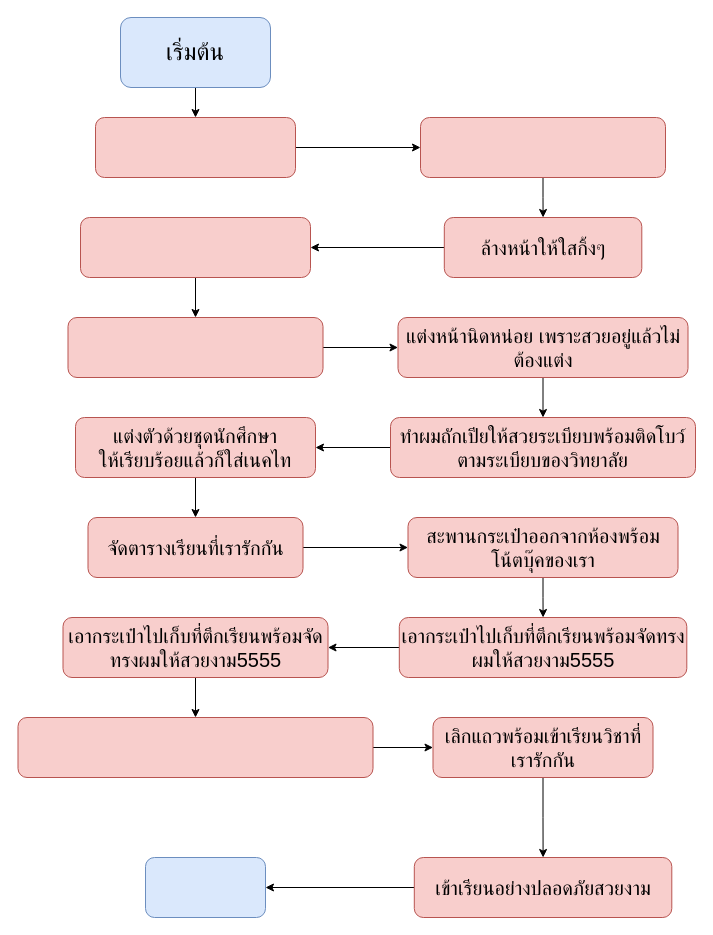
Image size: 713x935. Some labels were removed from this diagram. Each missing label, with the centre of its shape:
"END" goes at pixel 205 887.
"ตรวจระเบียบตั้งแต่หัวจรดเท้า แต่ไม่เคย โดนทำโทษเพราะเป็นเด็กดีค่ะ" goes at pixel 195 747.
"ตื่นนอนกับเช้าที่สดใสของวัยรุ่นพังงา" goes at pixel 195 147.
"รีดเสื้อ และกระโปรงนักศึกษา" goes at pixel 195 347.
"อาบน้ำแบบเจ้าหญิงให้ตัวหอมชื่นใจ" goes at pixel 543 147.
"แปรงฟันให้ขาวสะอาดวิ้งๆ" goes at pixel 195 247.
